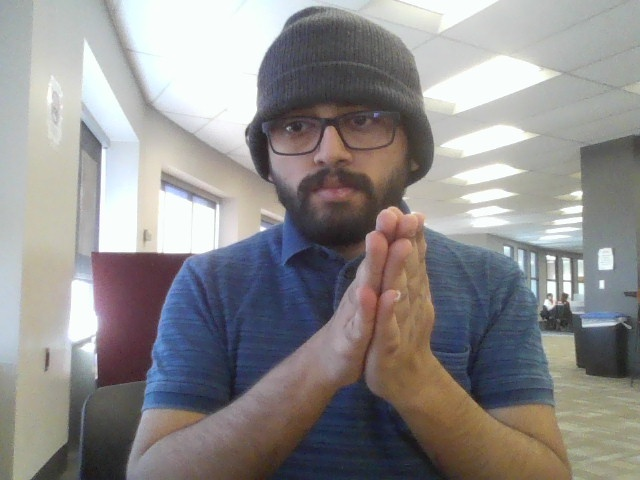start: (332, 198, 449, 410)
